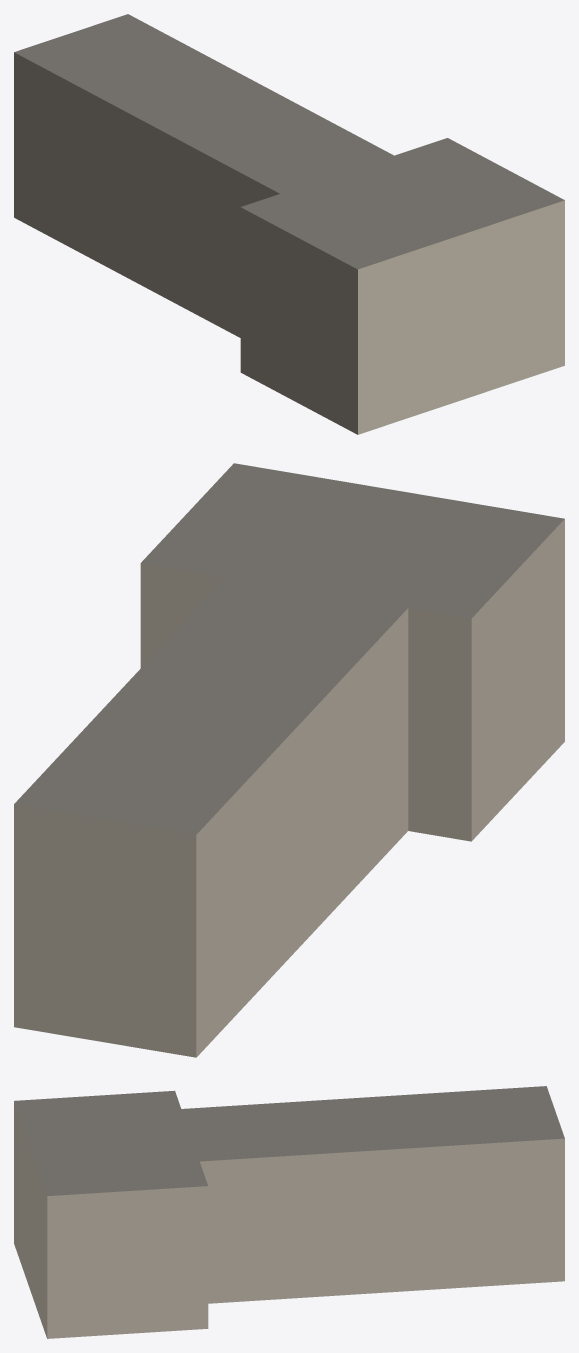
3 renders of one model, top to bottom at view 1: azimuth 30°, elevation 25°; view 2: azimuth 150°, elevation 25°; view 3: azimuth 270°, elevation 25°, orthographic. The views are drawn at different scales.
Visible parts, largest first — view 1: HP-w859424145; view 2: HP-w859424145; view 3: HP-w859424145.
Part boxes in pixels (left/top/right/bottom): HP-w859424145: left=14, top=14, right=564, bottom=434; HP-w859424145: left=14, top=463, right=564, bottom=1057; HP-w859424145: left=14, top=1086, right=564, bottom=1338.
Bounding box in the file's own units: 29.79 × 18 × 62.96.
